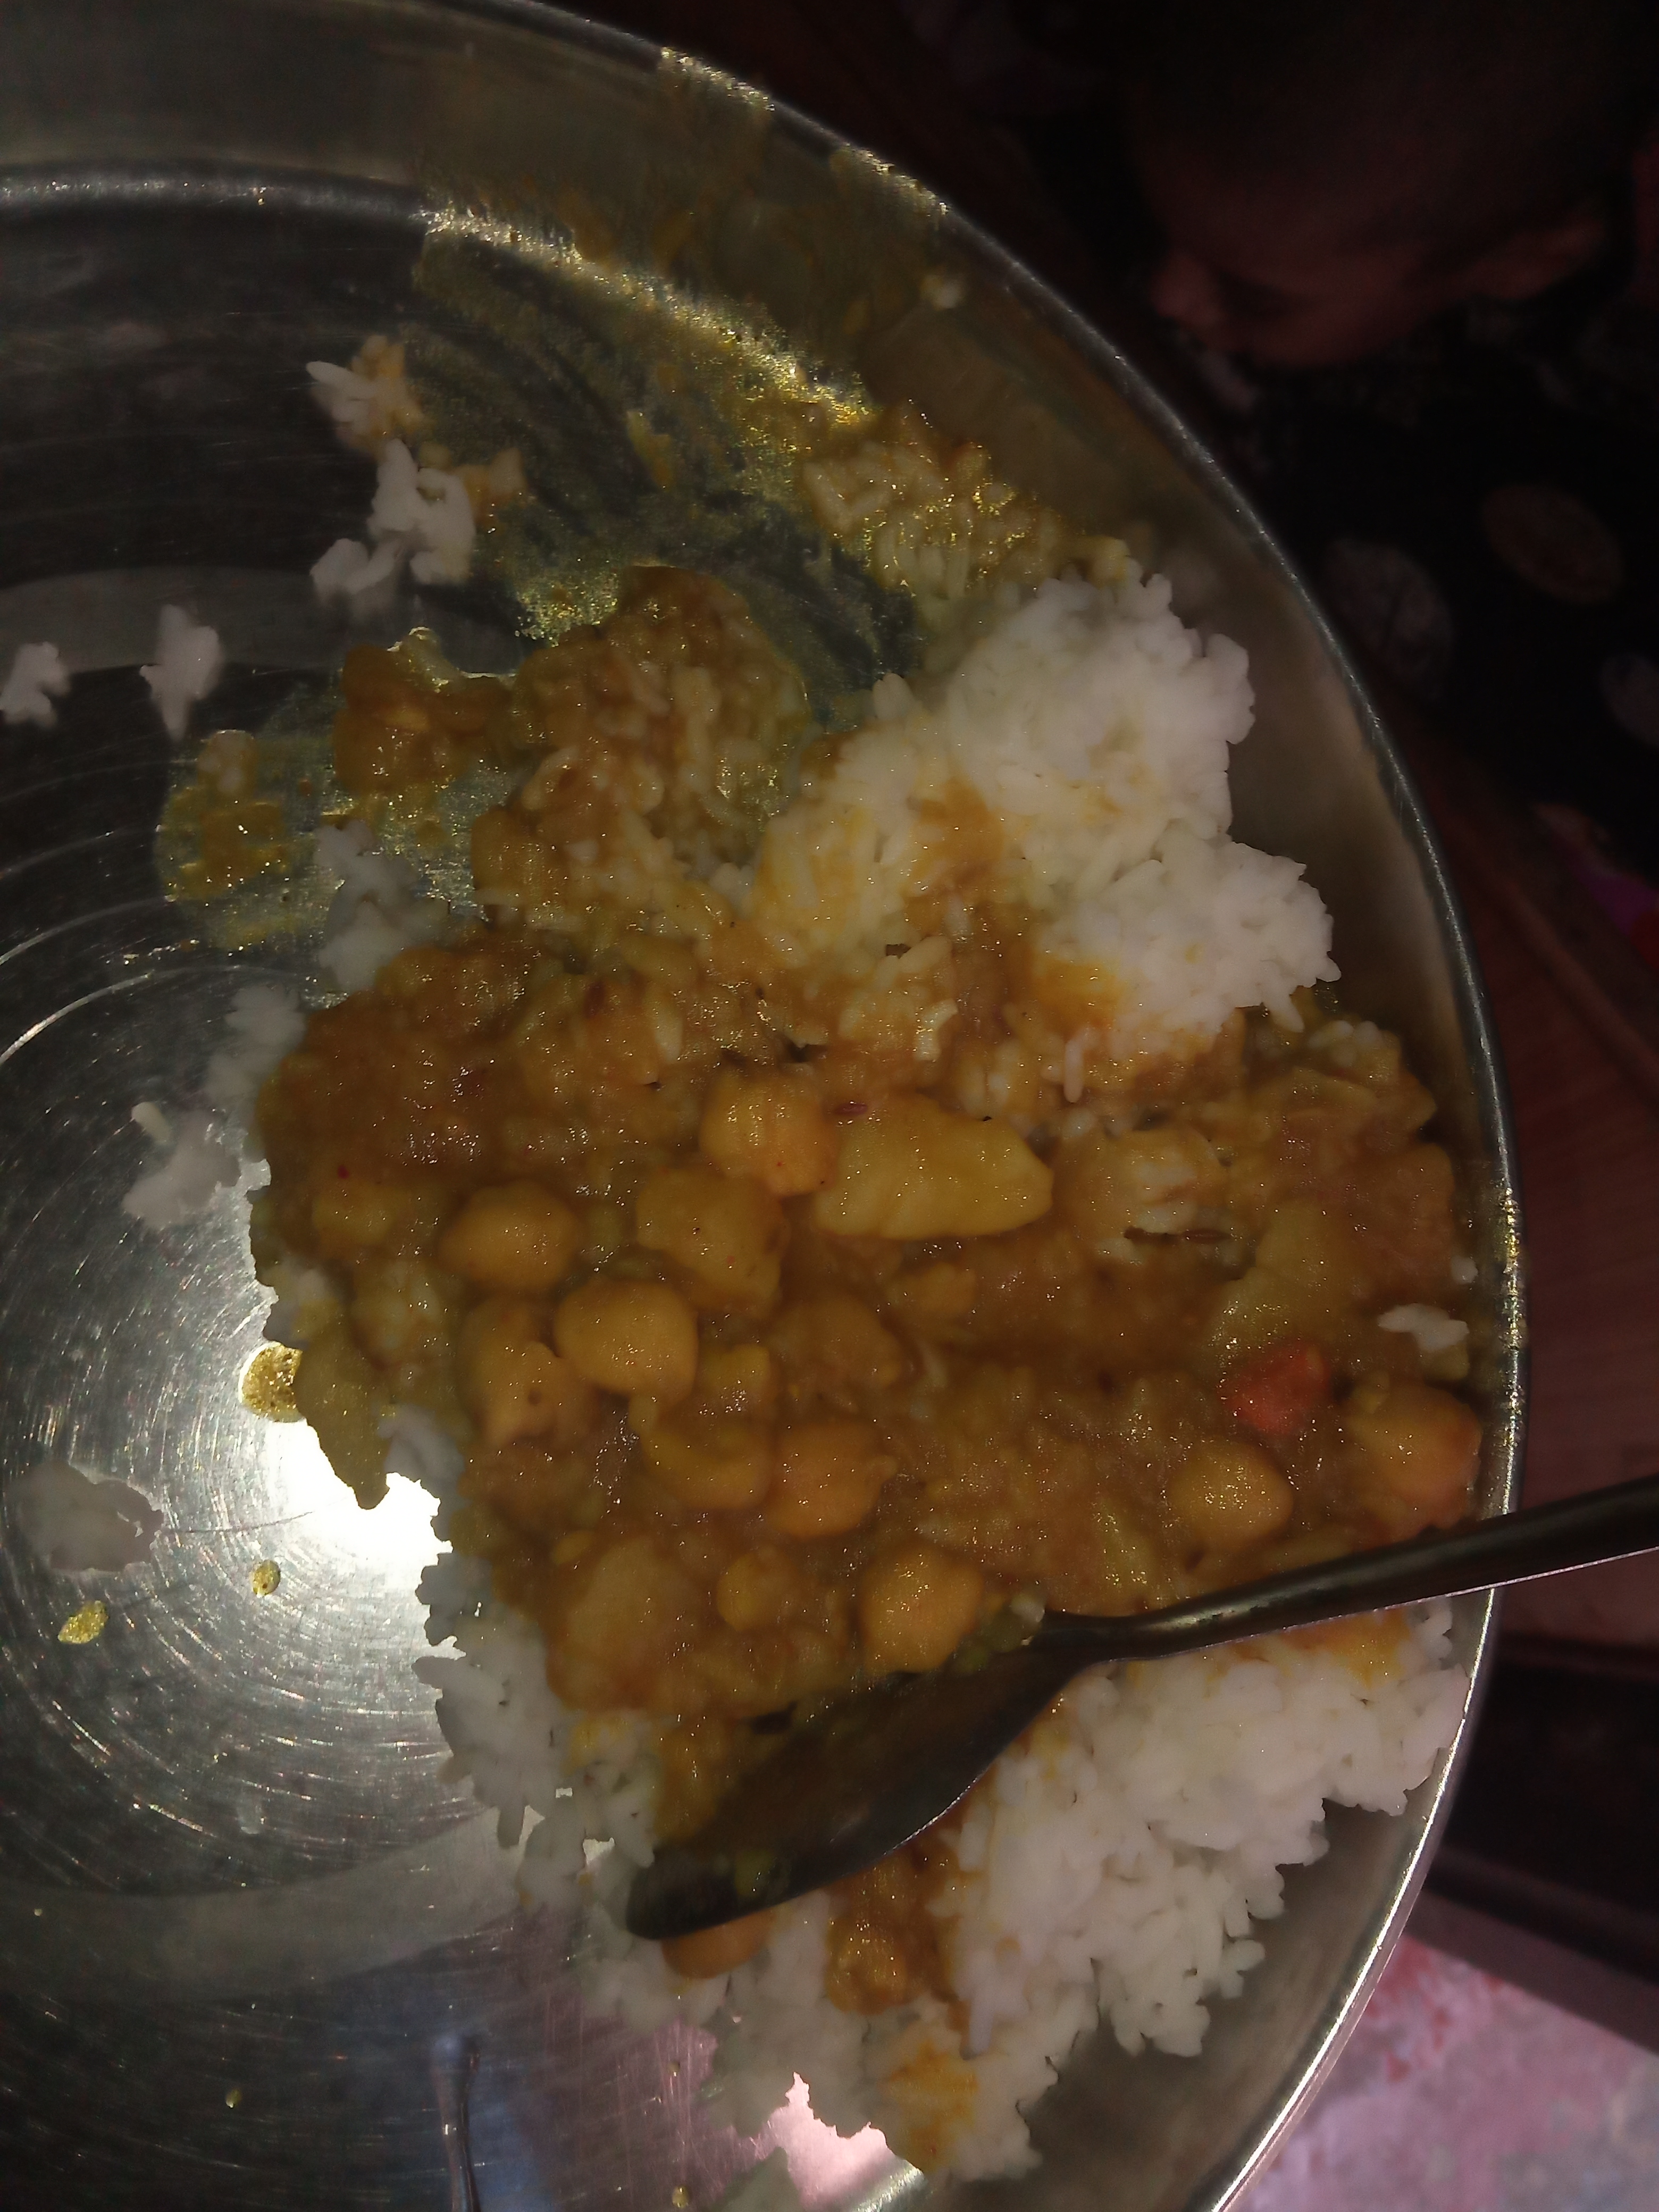food: (0, 298, 1497, 2196)
